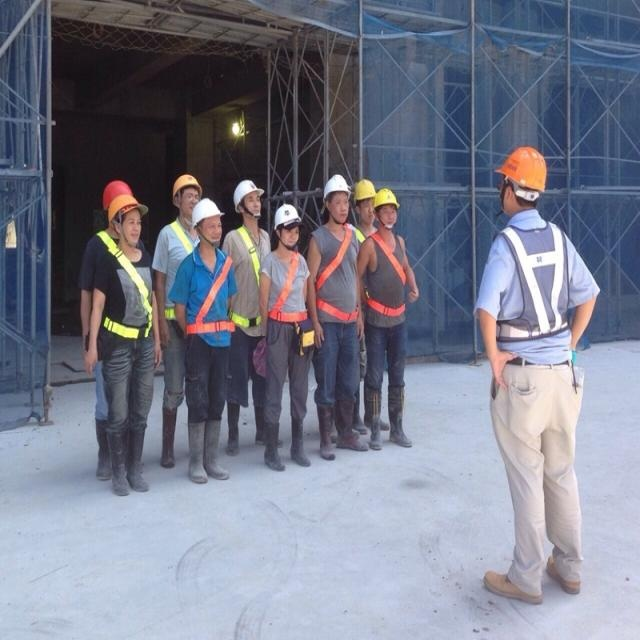Con_Casco: (496, 145, 546, 210), (232, 178, 265, 222), (324, 173, 351, 223), (275, 204, 302, 247)
Con_Chaleco: (497, 217, 573, 345), (104, 249, 156, 339)
